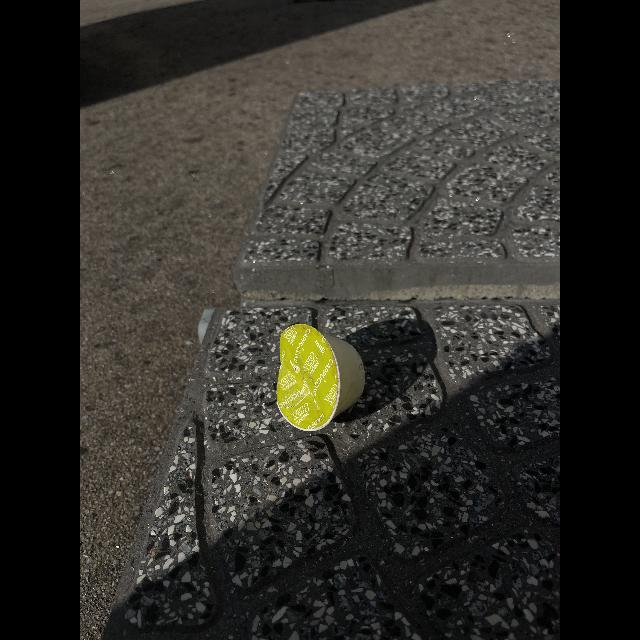damaged_capsule: (263, 306, 379, 444)
